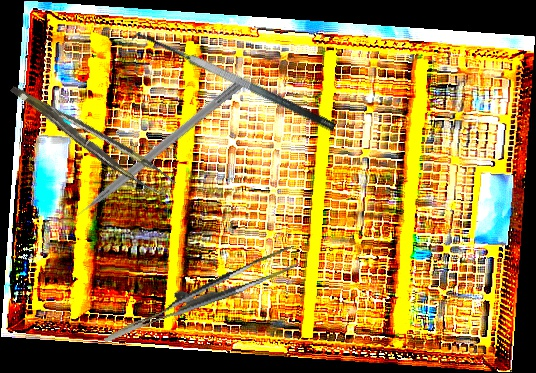Pusher: (58, 74, 248, 231)
Spatula Surgical: (127, 22, 337, 149)
Tissue Forceps: (10, 67, 176, 206), (93, 245, 306, 343)
